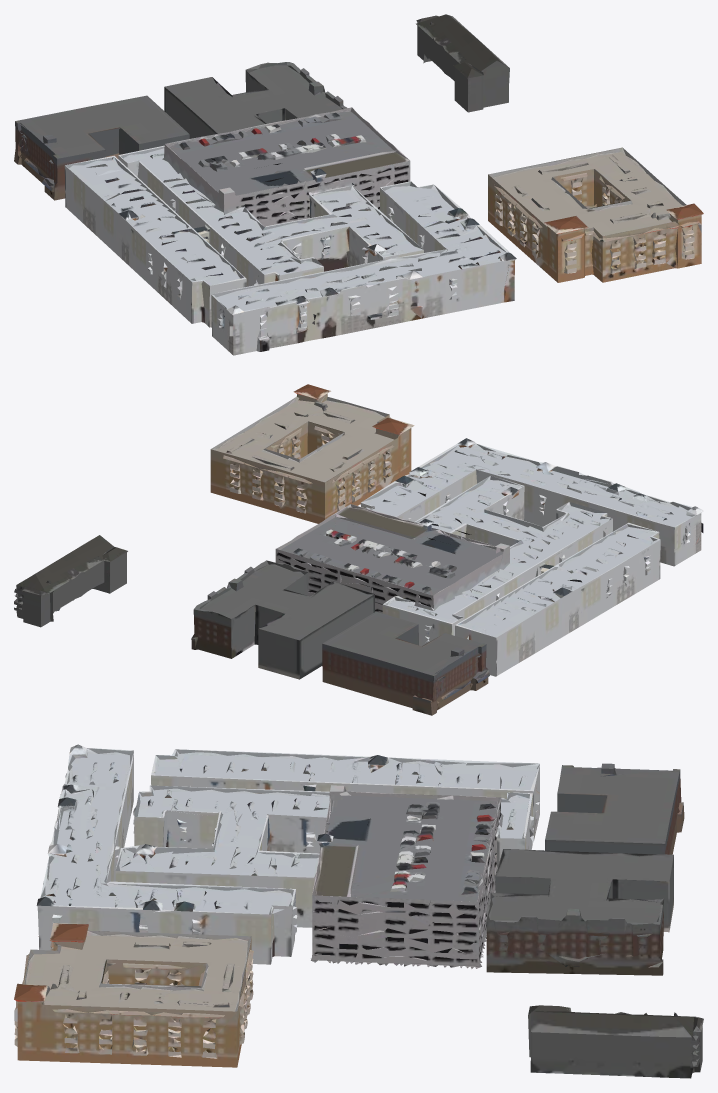
File: t_-2_-3.coat.glb
3 renders of one model, top to bottom at view 1: azimuth 30°, elevation 25°; view 2: azimuth 150°, elevation 25°; view 3: azimuth 270°, elevation 25°, orthographic. The views are drawn at different scales.
Parts seen in each view (by area): view 1: far; view 2: far; view 3: far.
Boxes of the visible parts, x1,y1,x2,y2 form: far: (14,14,703,355); far: (14,384,703,715); far: (14,744,703,1078).
Bounding box in the file's own units: 221 × 28.44 × 229.
1 material, 1 textured.
